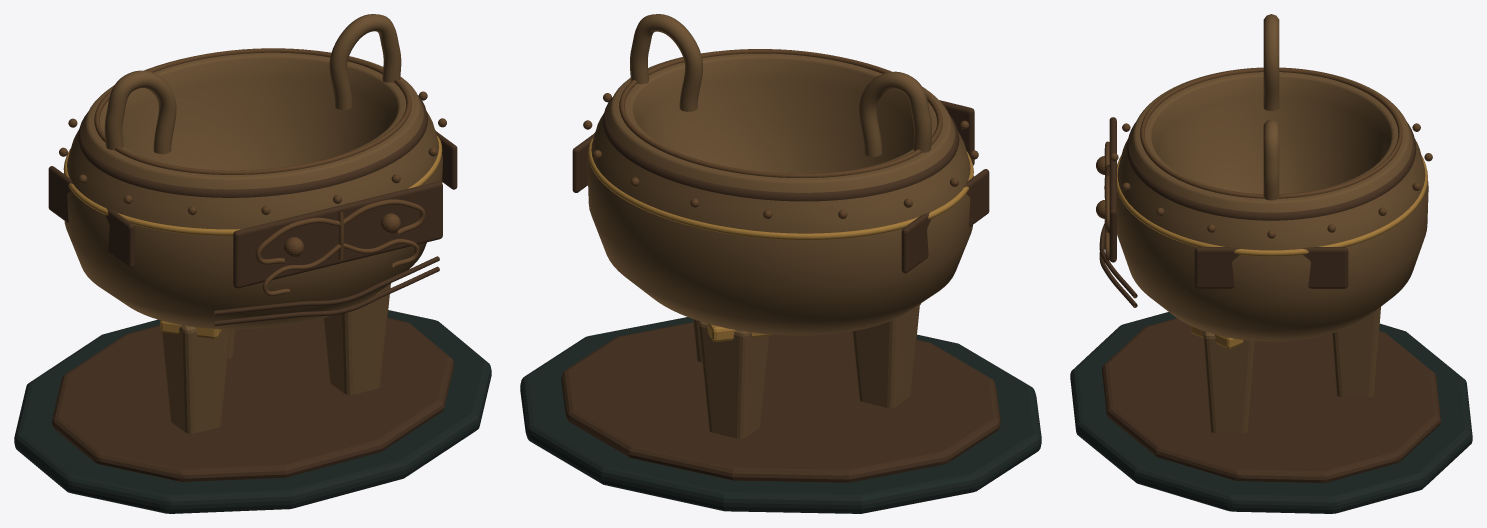
Rendered from heluo-bronze-ding-v4.glb.
3 renders of one model, left to right at view 1: azimuth 30°, elevation 25°; view 2: azimuth 150°, elevation 25°; view 3: azimuth 270°, elevation 25°, orthographic. The views are drawn at different scales.
Parts seen in each view (by area): view 1: Refined_Ding_Body, Pedestal_Upper, Pedestal_Lower, Front_Ritual_Relief_Panel, Ritual_Square_Leg_2, Ritual_Square_Leg_3, Upper_dark_band, Upper_gold_band, Left_Ceremonial_Ear, Right_Ceremonial_Ear, Side_Relief_Panel_-1, Lower_gold_band (+7 smaller); view 2: Refined_Ding_Body, Pedestal_Upper, Pedestal_Lower, Ritual_Square_Leg_1, Ritual_Square_Leg_2, Upper_dark_band, Upper_gold_band, Left_Ceremonial_Ear, Right_Ceremonial_Ear, Lower_gold_band, Side_Relief_Panel_-1, Front_Ritual_Relief_Panel (+1 smaller); view 3: Refined_Ding_Body, Pedestal_Upper, Pedestal_Lower, Ritual_Square_Leg_3, Side_Relief_Panel_1, Ritual_Square_Leg_1, Upper_gold_band, Upper_dark_band, Lower_gold_band, Left_Ceremonial_Ear, Right_Ceremonial_Ear, Front_Ritual_Relief_Panel.
Part boxes in pixels (x1,y1,x2,y2): Refined_Ding_Body: (63,50,442,329); Pedestal_Upper: (52,318,453,481); Pedestal_Lower: (14,310,491,513); Front_Ritual_Relief_Panel: (233,181,442,288); Ritual_Square_Leg_2: (162,325,230,433); Ritual_Square_Leg_3: (323,283,390,394); Upper_dark_band: (78,95,427,197); Upper_gold_band: (94,48,411,174); Left_Ceremonial_Ear: (104,70,176,154); Right_Ceremonial_Ear: (329,14,401,109); Side_Relief_Panel_-1: (48,166,134,268); Lower_gold_band: (63,130,442,235); Refined_Ding_Body: (587,51,973,335); Pedestal_Upper: (561,322,1000,482); Pedestal_Lower: (520,317,1041,513); Ritual_Square_Leg_1: (698,321,769,438); Ritual_Square_Leg_2: (852,305,919,408); Upper_dark_band: (602,97,959,201); Upper_gold_band: (619,49,942,177); Left_Ceremonial_Ear: (859,71,931,156); Right_Ceremonial_Ear: (630,14,702,111); Lower_gold_band: (588,132,973,240); Side_Relief_Panel_-1: (901,169,989,273); Front_Ritual_Relief_Panel: (939,100,974,165); Refined_Ding_Body: (1117,67,1428,341); Pedestal_Upper: (1102,318,1440,482); Pedestal_Lower: (1070,312,1472,513); Ritual_Square_Leg_3: (1203,331,1254,433); Side_Relief_Panel_1: (1194,247,1348,288); Ritual_Square_Leg_1: (1332,307,1380,397); Upper_gold_band: (1140,67,1402,198); Upper_dark_band: (1126,122,1416,220); Lower_gold_band: (1117,155,1427,256); Left_Ceremonial_Ear: (1263,14,1279,110); Right_Ceremonial_Ear: (1263,119,1279,200); Front_Ritual_Relief_Panel: (1109,117,1116,262).
Bounding box in the file's own units: 3.57 × 2.86 × 3.02.
